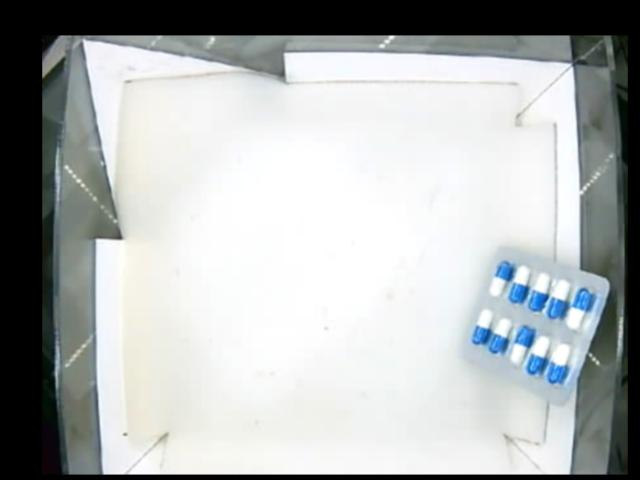Medicine: (462, 244, 610, 405)
